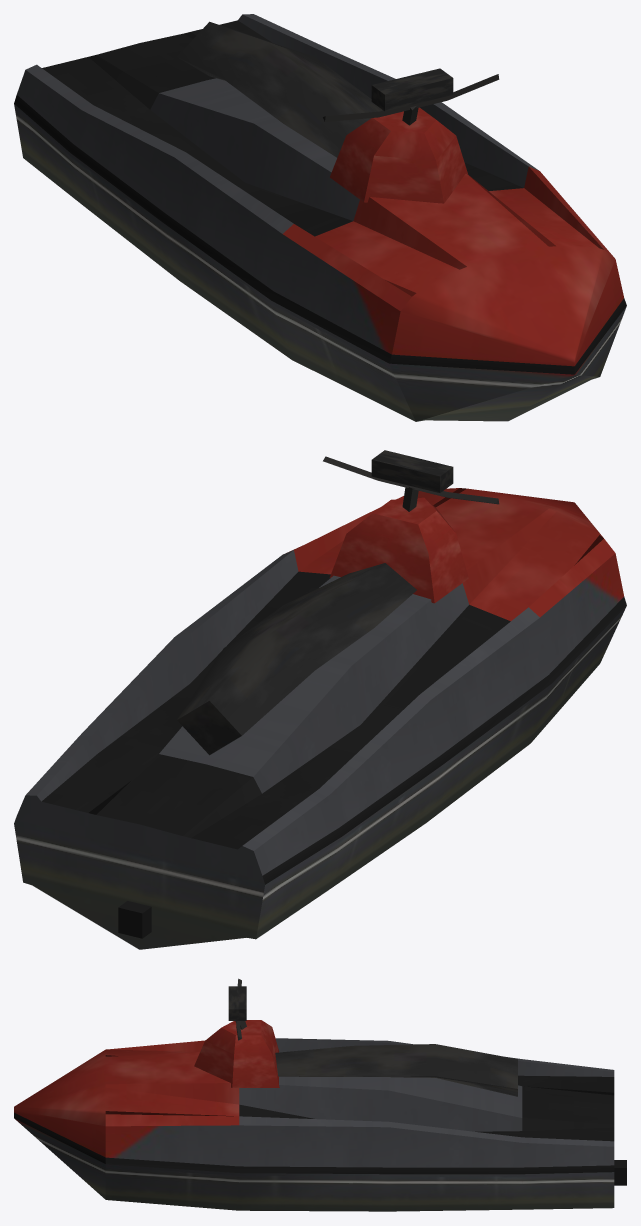
The model's file is jetSki-b-lod2.glb.
3 views of the same model, one above another, from view 1: azimuth 30°, elevation 25°; view 2: azimuth 150°, elevation 25°; view 3: azimuth 270°, elevation 25° (orthographic). The views are drawn at different scales.
Parts seen in each view (by area): view 1: Hull, Superstructure; view 2: Hull, Superstructure; view 3: Hull, Superstructure.
Boxes of the visible parts, box(x1,y1,x2,y2) form: Hull: box(14, 14, 626, 421); Superstructure: box(177, 21, 499, 203); Hull: box(14, 488, 626, 949); Superstructure: box(177, 450, 499, 755); Hull: box(14, 1038, 626, 1211); Superstructure: box(194, 978, 517, 1096).
Size of the model in its own units: 1.23 by 1.2 by 3.37.
1 material, 1 textured.
